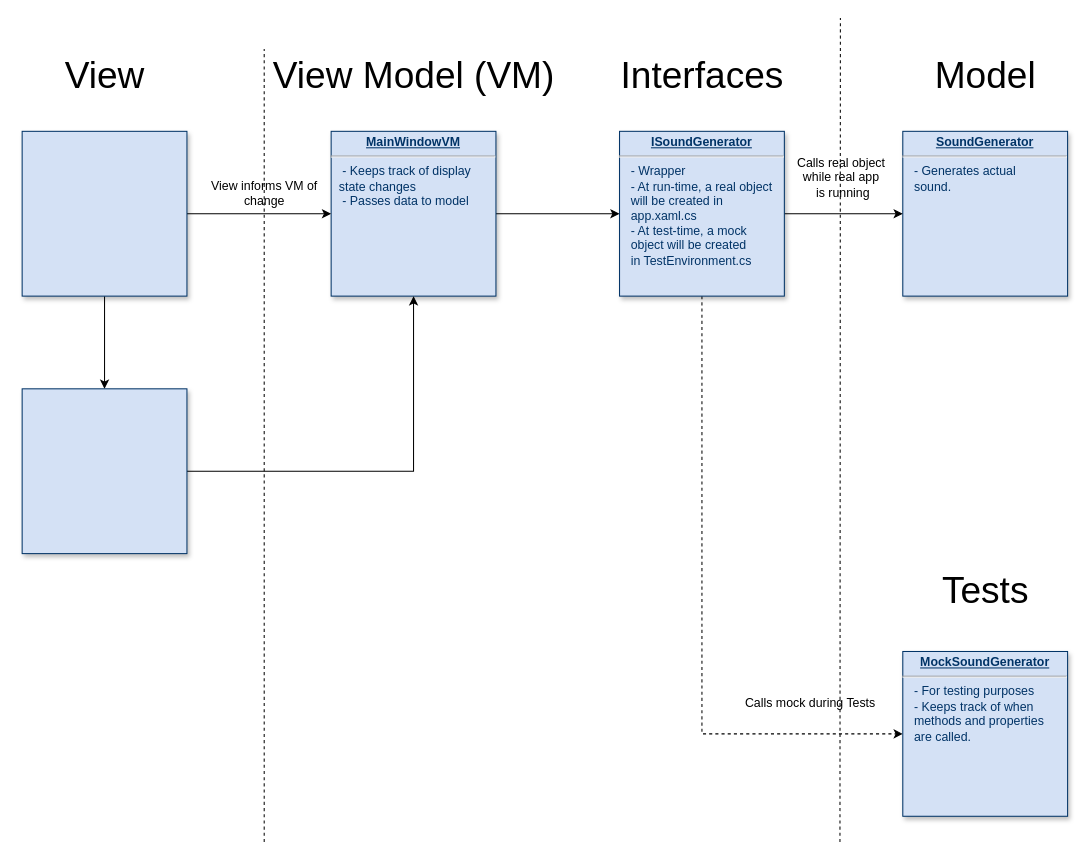
The diagram is 1092 pixels wide and 861 high, and some of its shapes have lost their labels. Each missing label, with the centre of its shape:
MainWindow Listens to user input: the point at 105,214
Virtual Keyboard Listens to 'keyDown' event: the point at 105,472
